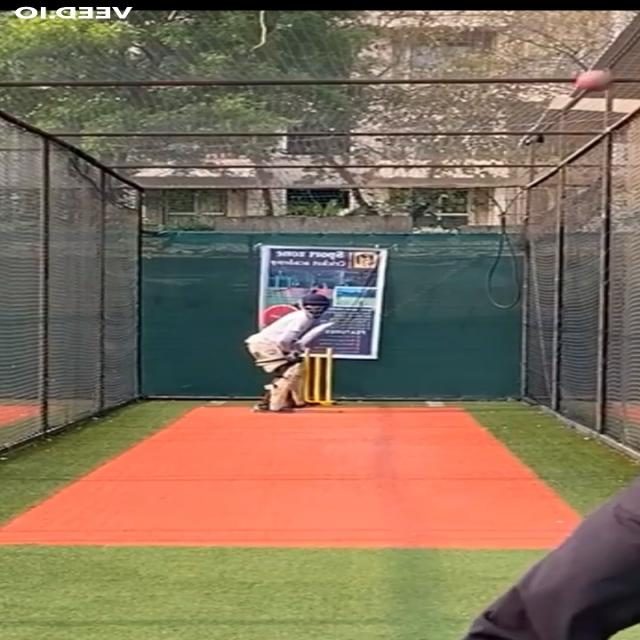ball: (566, 65, 618, 98)
stump: (300, 348, 340, 405)
